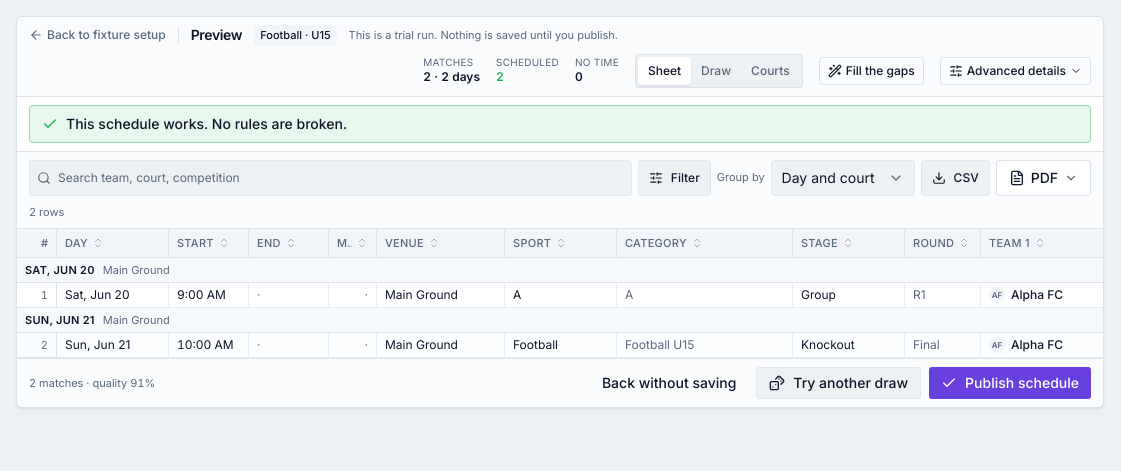
Test: DryRunPreviewPage › keeps the draw number and quality behind the closed Advanced details
Expected: the element with test id "matches-spreadsheet" is shown, [17,229,1103,358]
Click the button with test id "advanced-details-toggle".
click(1015, 70)  # box [940,56,1091,84]
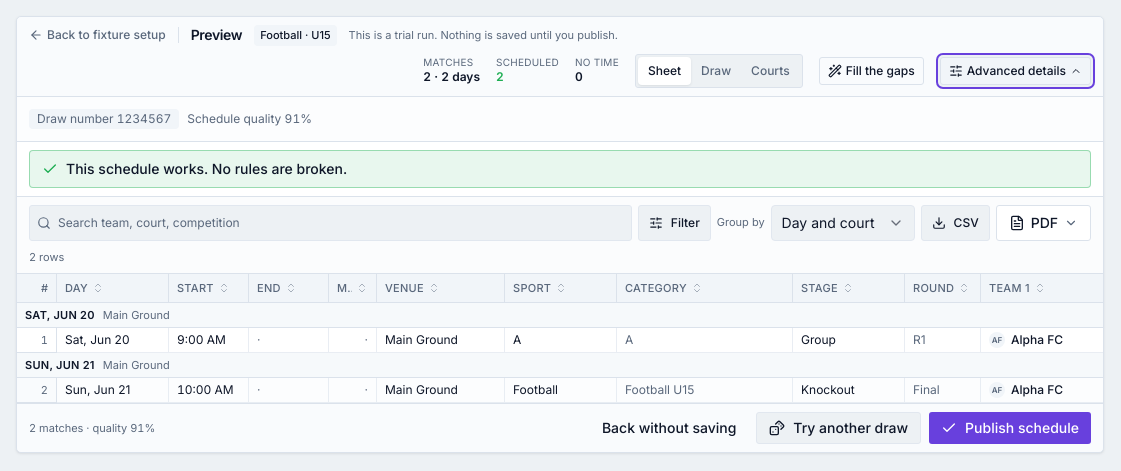
Expected: the text with test id "preview-seed" reads "Draw number 1234567", [29,108,179,128]
Expected: the text with test id "schedule-quality" shows "91%", [187,110,312,126]
